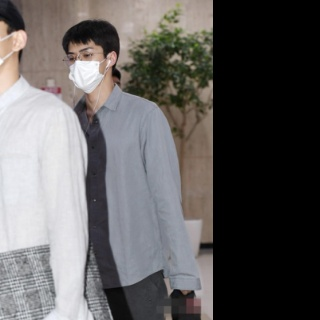with_mask: (69, 44, 108, 95)
